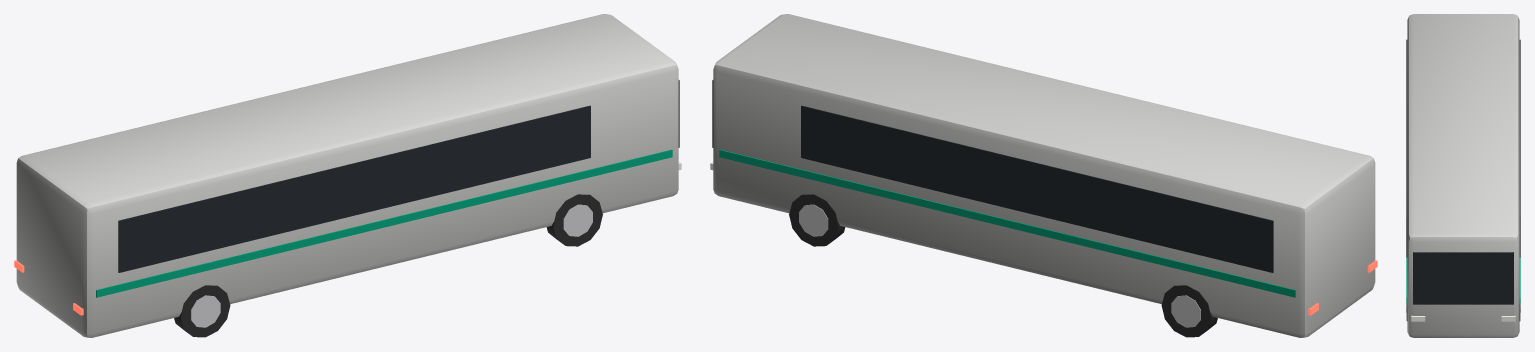
The model's file is SM_Bus_City.fbx.
3 views of the same model, side by side, from view 1: azimuth 30°, elevation 25°; view 2: azimuth 150°, elevation 25°; view 3: azimuth 270°, elevation 25° (orthographic). The views are drawn at different scales.
Parts seen in each view (by area): view 1: SM_Bus_City; view 2: SM_Bus_City; view 3: SM_Bus_City.
Part boxes in pixels (bbox=[...]): SM_Bus_City: bbox=[14, 14, 681, 337]; SM_Bus_City: bbox=[710, 14, 1377, 337]; SM_Bus_City: bbox=[1406, 14, 1520, 337].
Size of the model in its own units: 1208 by 305 by 258.
